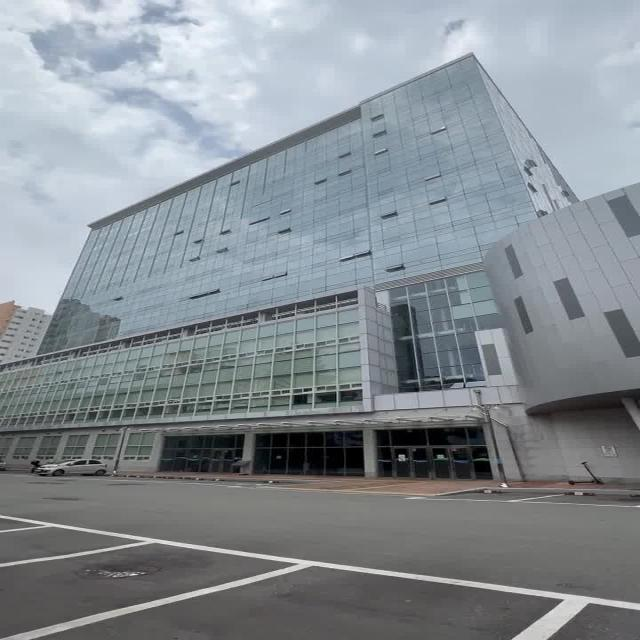building: (55, 160, 640, 473)
